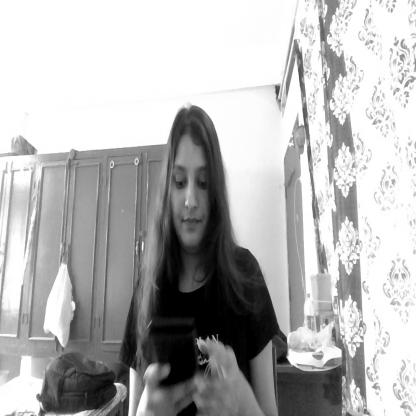Normal: (162, 105, 224, 254)
